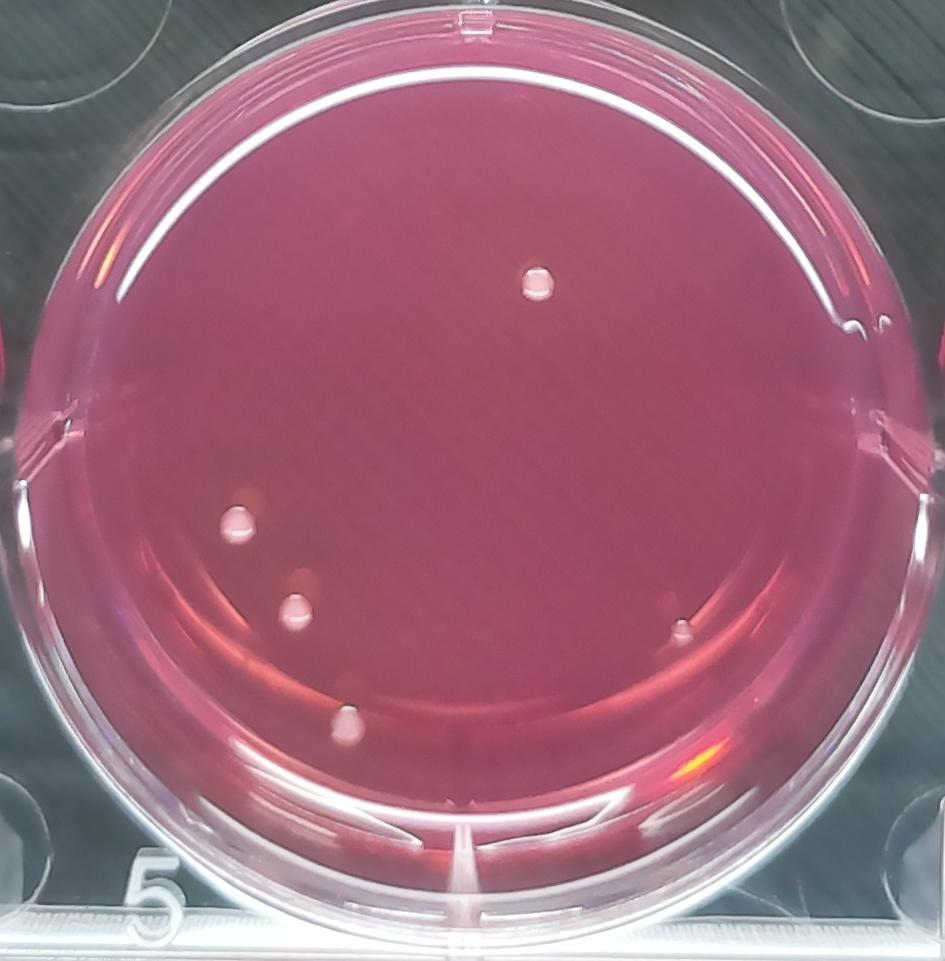bcereus: (210, 492, 264, 554), (320, 700, 375, 760), (267, 585, 321, 642), (518, 255, 567, 312)
